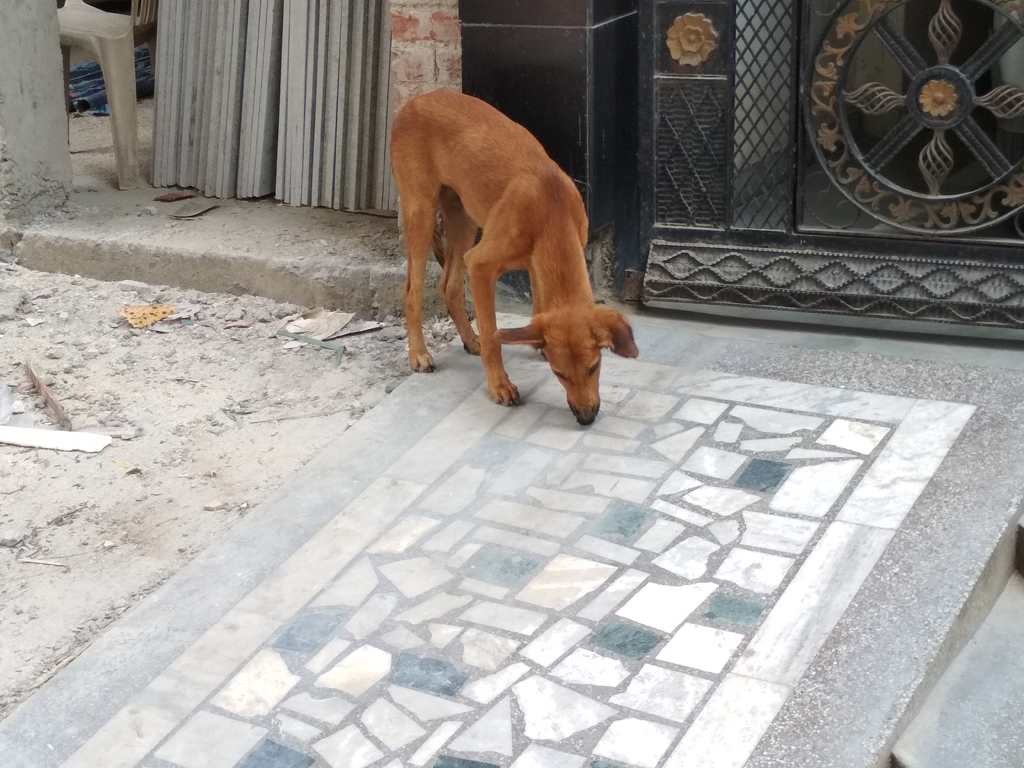dog: (389, 87, 639, 426)
